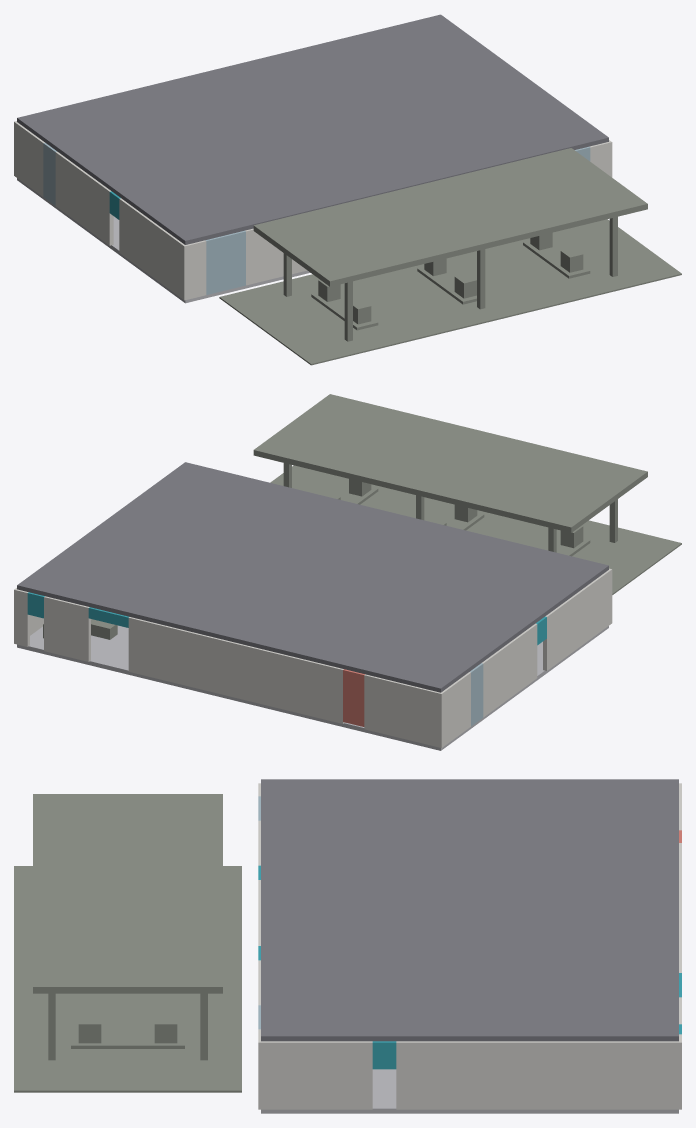
The model's file is gas_station_a01.glb.
3 renders of one model, top to bottom at view 1: azimuth 30°, elevation 25°; view 2: azimuth 150°, elevation 25°; view 3: azimuth 270°, elevation 25°, orthographic. The views are drawn at different scales.
Parts seen in each view (by area): view 1: canopy_roof, forecourt_pad, slab_1_t0_0, slab_1_t0_6, slab_1_t3_0, slab_1_t2_0, slab_1_t1_0, slab_1_t4_0, slab_1_t0_1, slab_1_t0_3, slab_1_t0_4, slab_1_t0_5 (+44 smaller); view 2: canopy_roof, forecourt_pad, slab_1_t4_0, slab_1_t4_3, slab_1_t4_4, slab_1_t4_5, slab_1_t4_1, slab_1_t4_2, slab_1_t4_6, slab_1_t3_0, slab_1_t1_0, slab_1_t2_0 (+51 smaller); view 3: canopy_roof, forecourt_pad, slab_1_t1_6, slab_1_t0_6, slab_1_t2_6, slab_1_t3_6, slab_1_t4_6, slab_1_t1_5, slab_1_t1_2, slab_1_t0_2, slab_1_t0_5, slab_1_t2_2 (+43 smaller).
Part boxes in pixels (x1,y1,x2,y2): canopy_roof: [253, 148, 647, 286]; forecourt_pad: [219, 219, 681, 365]; slab_1_t0_0: [151, 201, 245, 244]; slab_1_t0_6: [515, 113, 608, 153]; slab_1_t3_0: [50, 128, 144, 170]; slab_1_t2_0: [84, 152, 177, 195]; slab_1_t1_0: [118, 177, 211, 219]; slab_1_t4_0: [17, 103, 110, 146]; slab_1_t0_1: [212, 187, 306, 230]; slab_1_t0_3: [333, 157, 427, 197]; slab_1_t0_4: [394, 142, 487, 182]; slab_1_t0_5: [454, 128, 548, 167]; canopy_roof: [253, 394, 647, 532]; forecourt_pad: [270, 465, 681, 594]; slab_1_t4_0: [380, 649, 474, 692]; slab_1_t4_3: [198, 605, 292, 648]; slab_1_t4_4: [138, 590, 231, 633]; slab_1_t4_5: [77, 575, 171, 618]; slab_1_t4_1: [319, 634, 413, 677]; slab_1_t4_2: [259, 619, 352, 662]; slab_1_t4_6: [17, 560, 110, 603]; slab_1_t3_0: [414, 624, 508, 667]; slab_1_t1_0: [481, 575, 575, 618]; slab_1_t2_0: [448, 600, 541, 642]; canopy_roof: [33, 794, 222, 993]; forecourt_pad: [14, 866, 241, 1092]; slab_1_t1_6: [344, 999, 428, 1041]; slab_1_t0_6: [261, 999, 344, 1041]; slab_1_t2_6: [428, 999, 511, 1041]; slab_1_t3_6: [512, 999, 595, 1041]; slab_1_t4_6: [595, 999, 678, 1041]; slab_1_t1_5: [344, 962, 428, 999]; slab_1_t1_2: [344, 852, 428, 889]; slab_1_t0_2: [261, 852, 344, 889]; slab_1_t0_5: [261, 962, 344, 999]; slab_1_t2_2: [428, 852, 511, 889].
Size of what is drawn, in the model's own units: 32.3 by 5.5 by 35.15.
